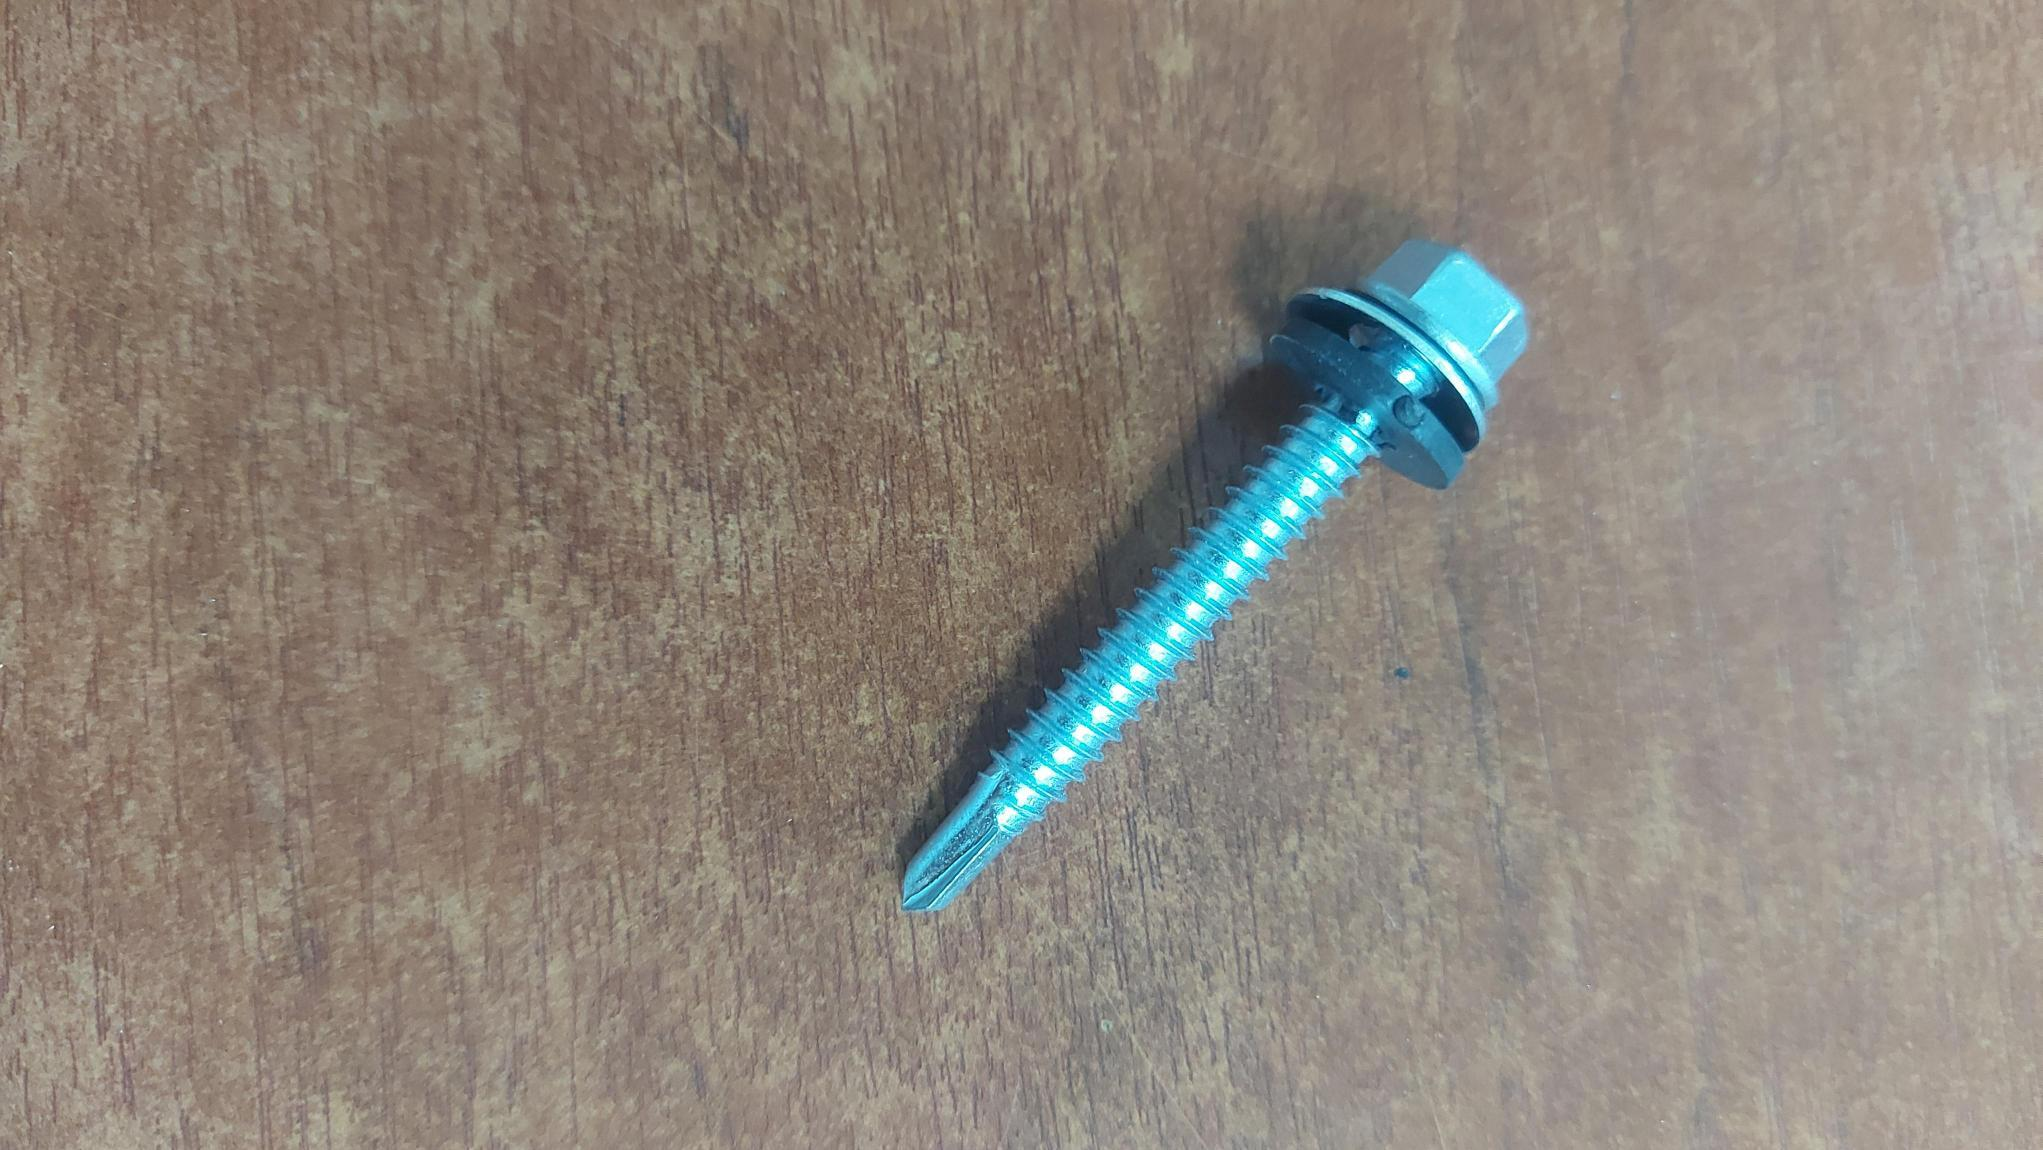Screw: (904, 240, 1525, 909)
